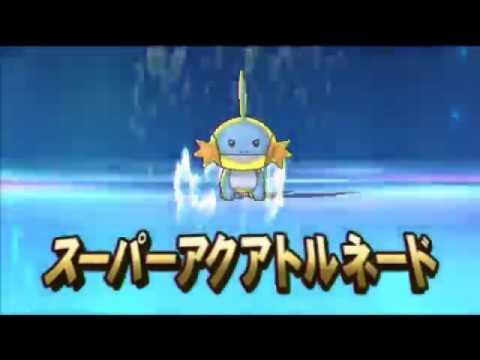mudkip: (195, 68, 296, 202)
